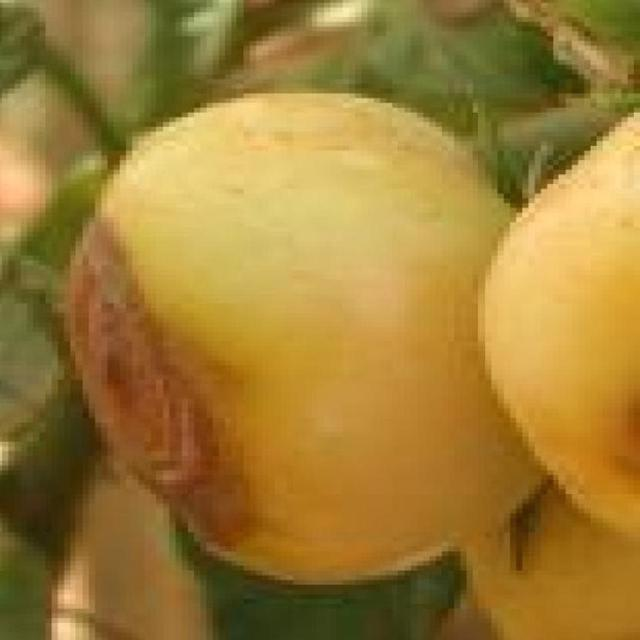Blossom End Rot Fruit: (45, 134, 165, 360)
